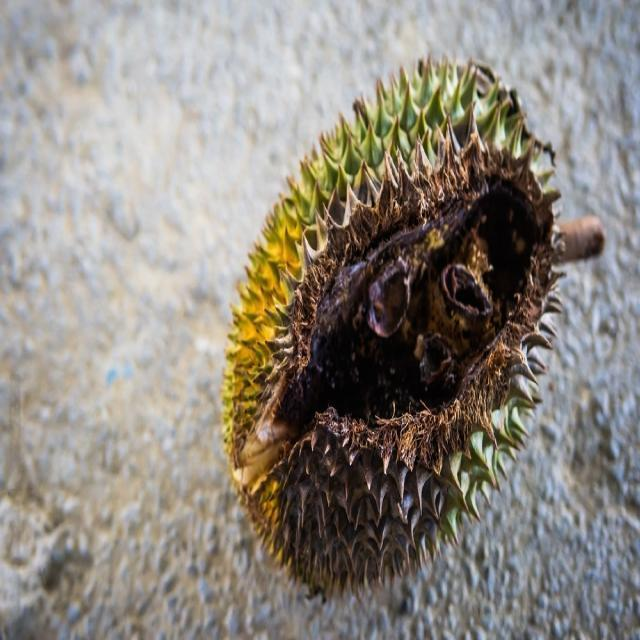defective: (219, 52, 568, 597)
